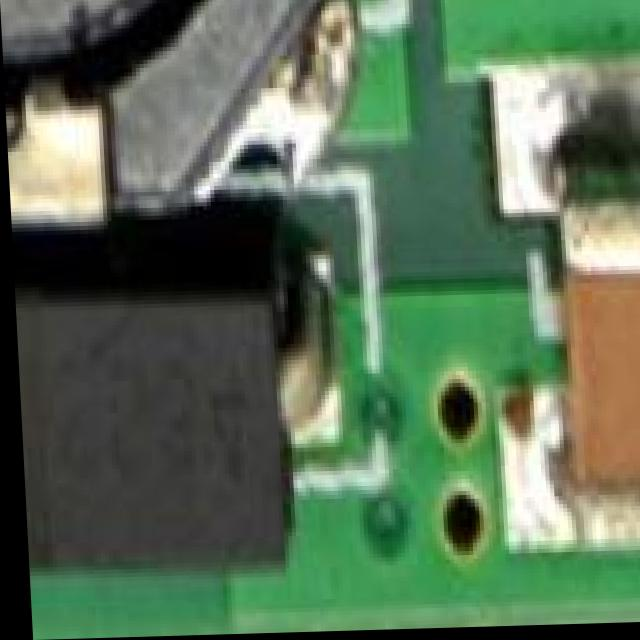capacitor: (516, 181, 640, 544)
diode: (10, 237, 324, 596)
inductor: (0, 0, 405, 224)
